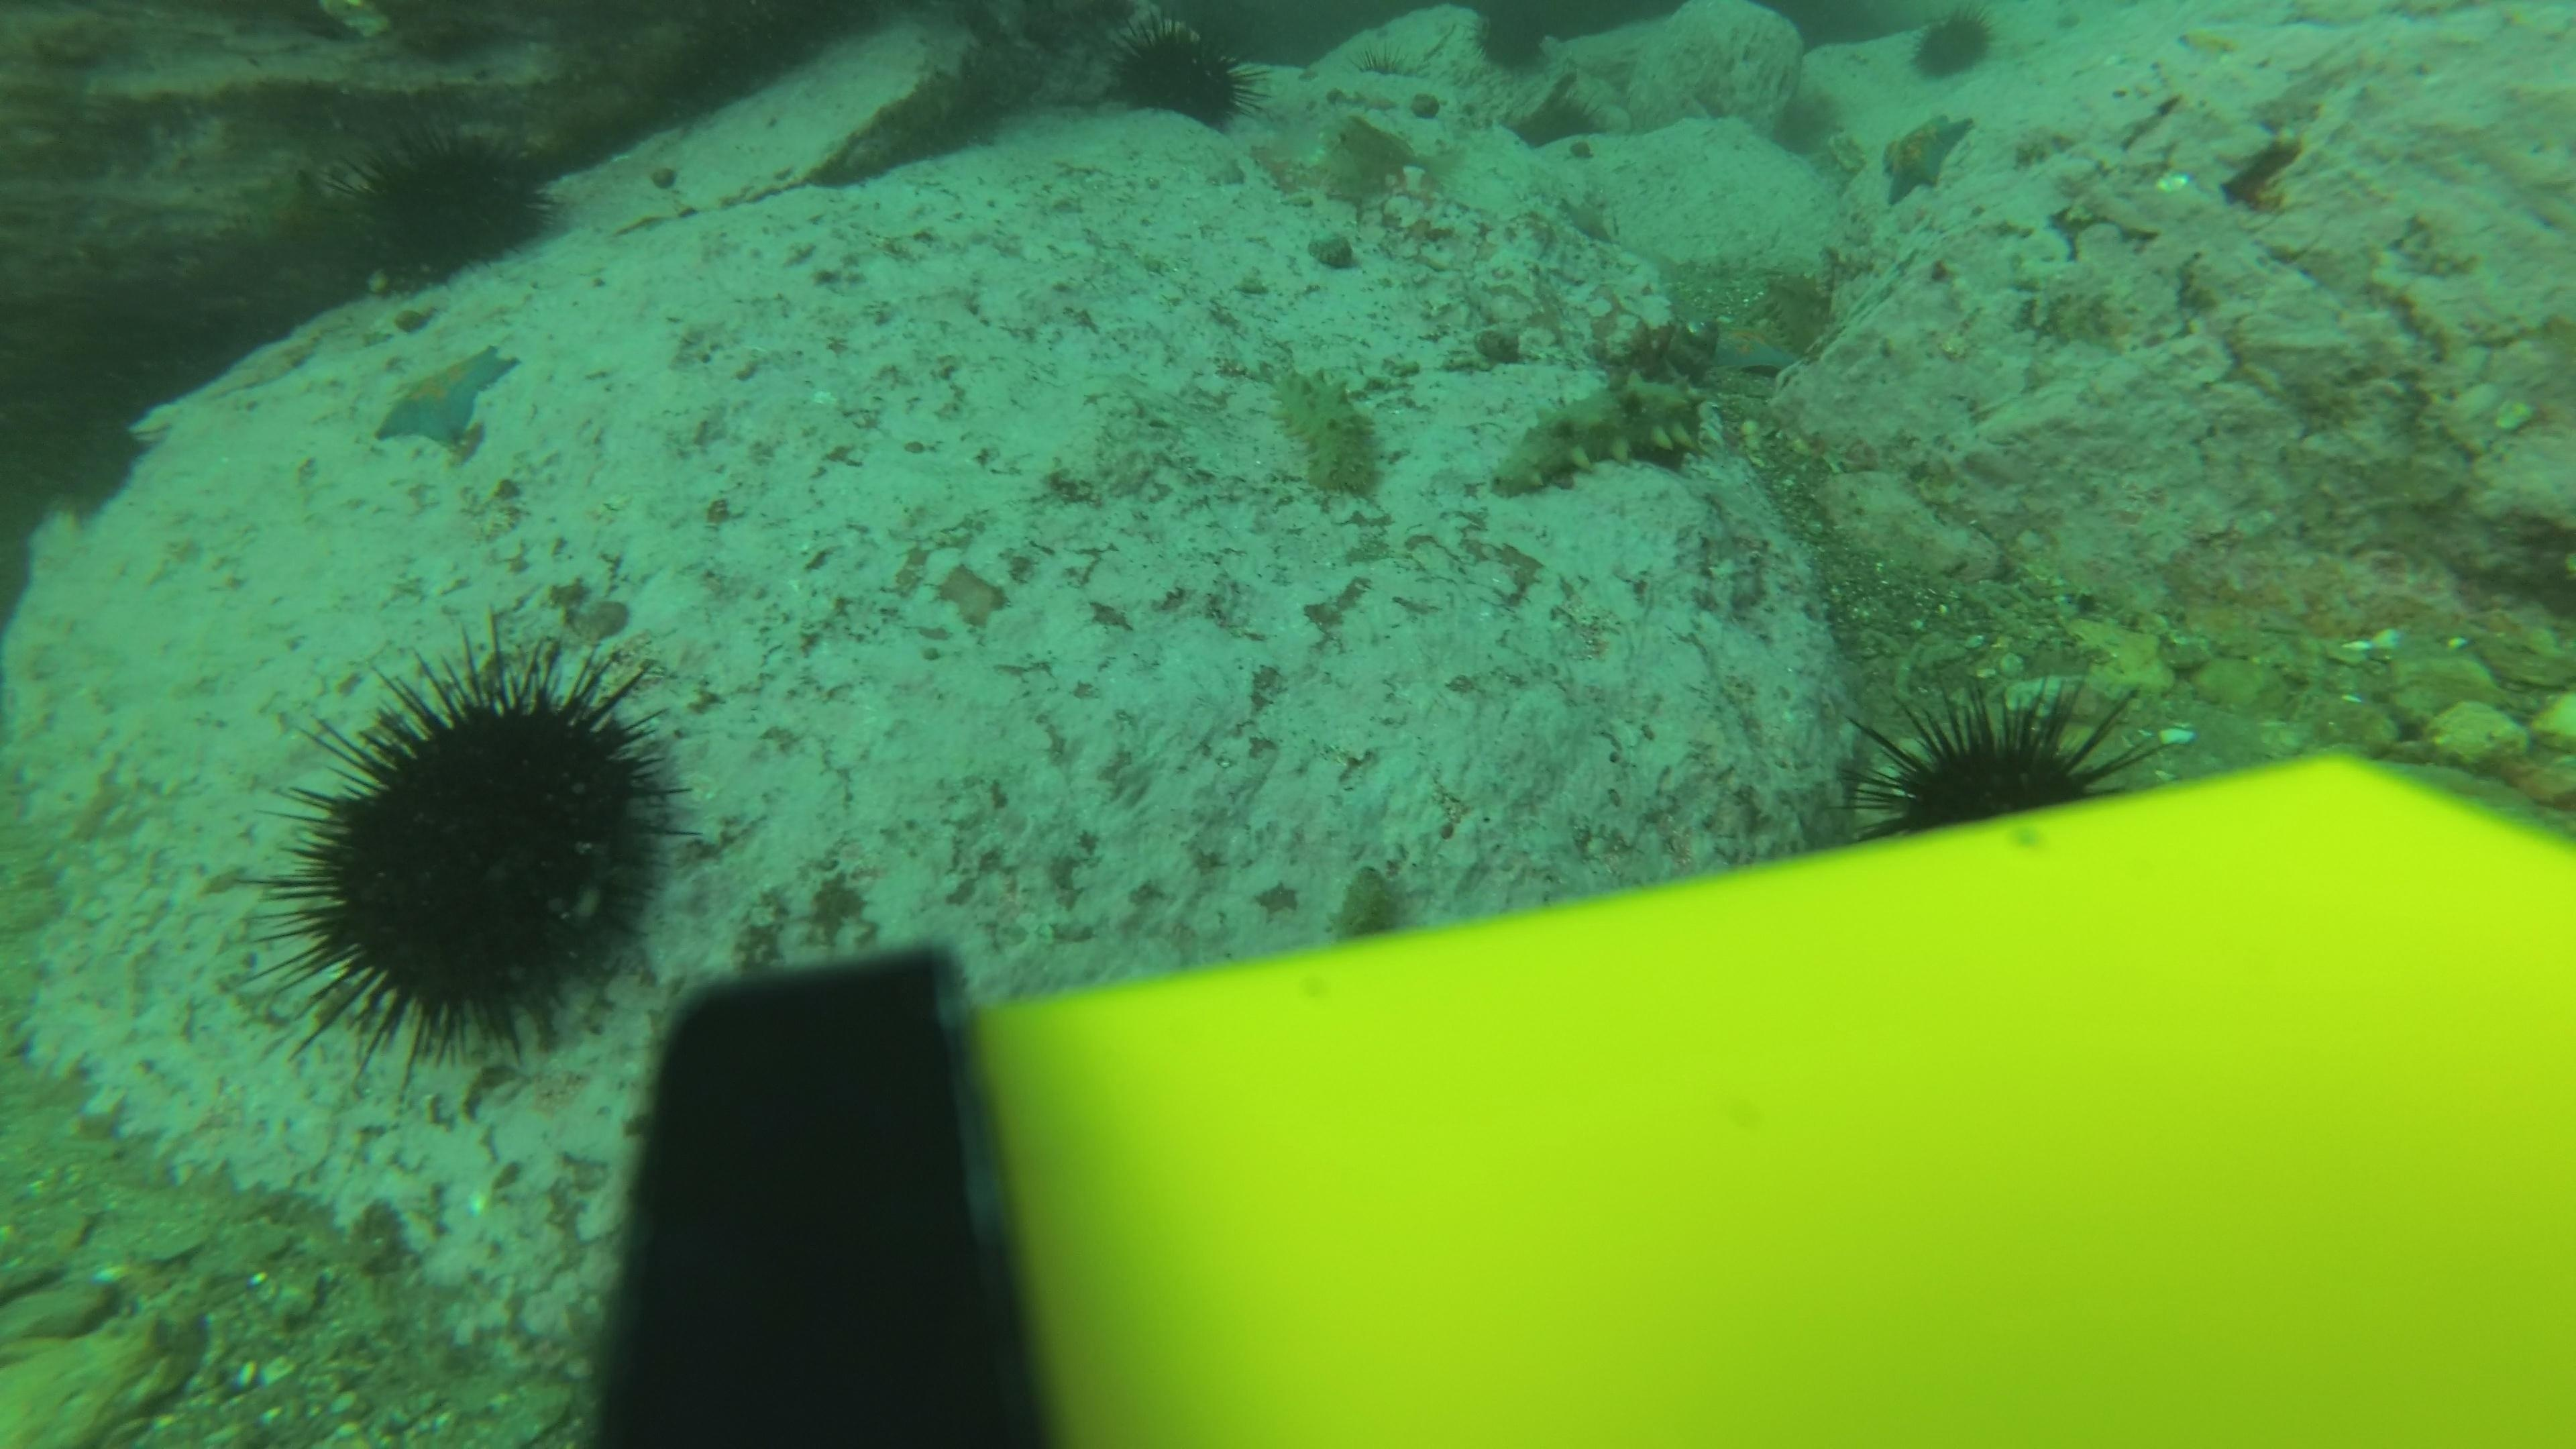echinus: (258, 635, 695, 1065), (1845, 672, 2164, 835), (341, 122, 563, 283), (1099, 14, 1261, 136), (1904, 5, 2001, 87), (1463, 4, 1564, 78), (1499, 83, 1599, 157)
holothurian: (1479, 366, 1718, 501), (1265, 357, 1391, 508), (1316, 855, 1407, 955)
starfish: (368, 338, 525, 456), (1874, 108, 1976, 207), (1702, 308, 1805, 382), (1555, 189, 1621, 248)
